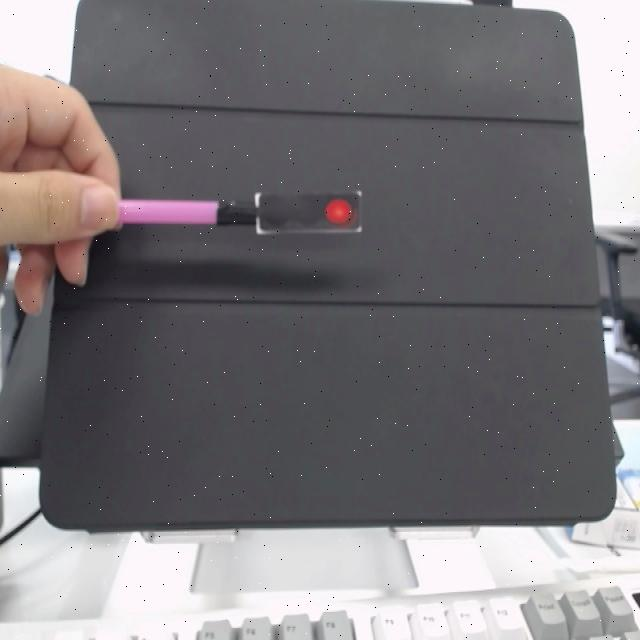traffic light: (253, 189, 368, 239)
